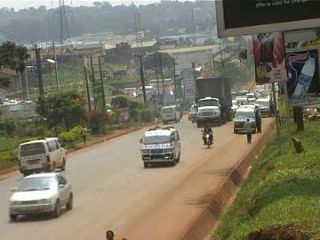Car: (7, 169, 76, 223), (231, 94, 241, 118)
Motorcycle: (198, 123, 217, 149)
